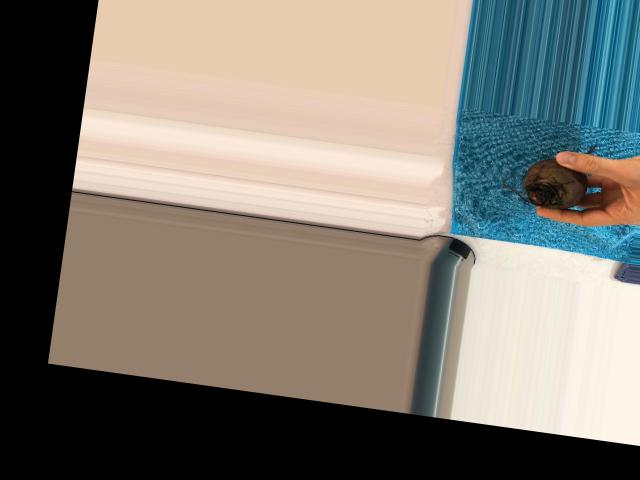beet: (500, 130, 597, 213)
